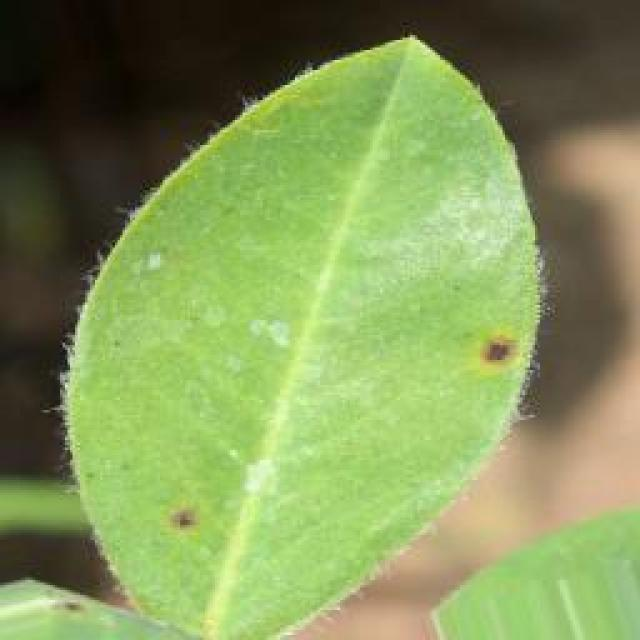Sigatoka: (440, 314, 536, 401), (149, 481, 221, 574)
